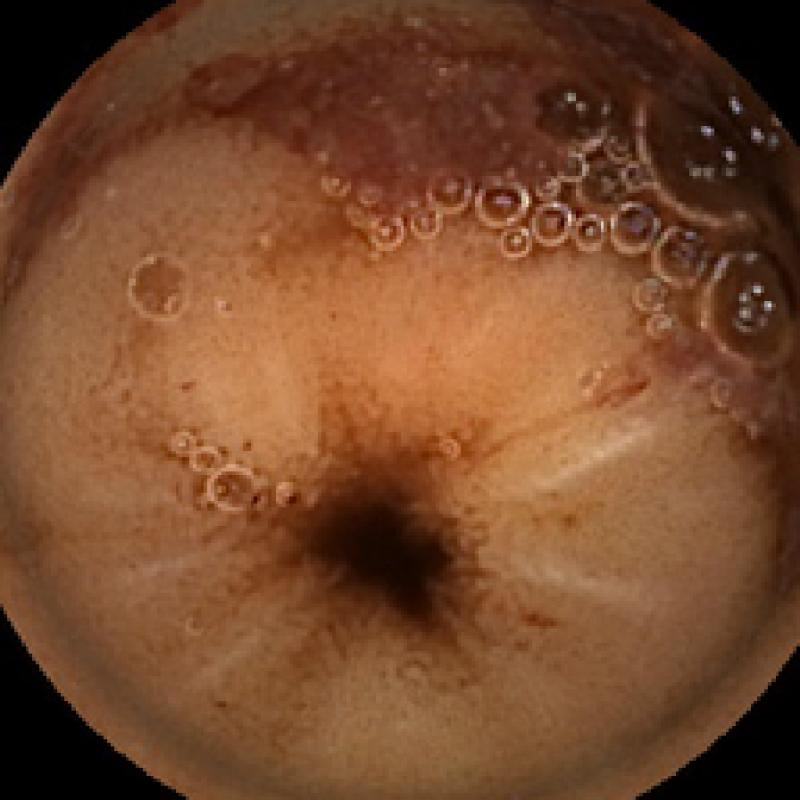bleeding: (135, 3, 678, 213)
